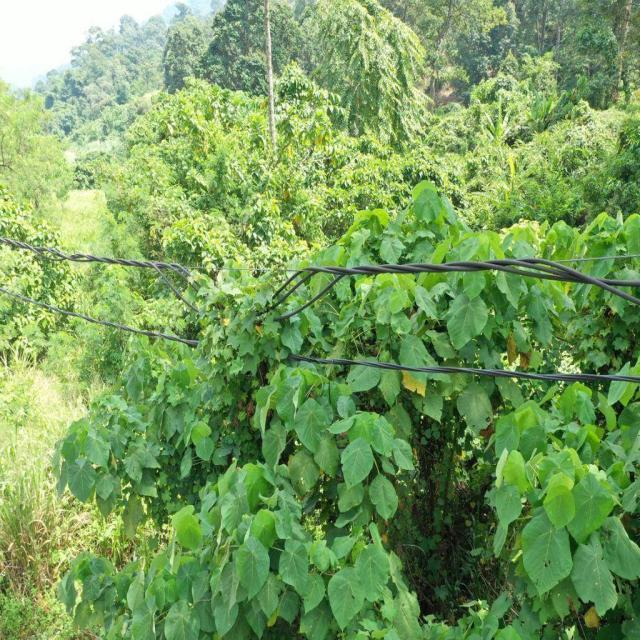critical vegetation: (169, 259, 302, 408)
